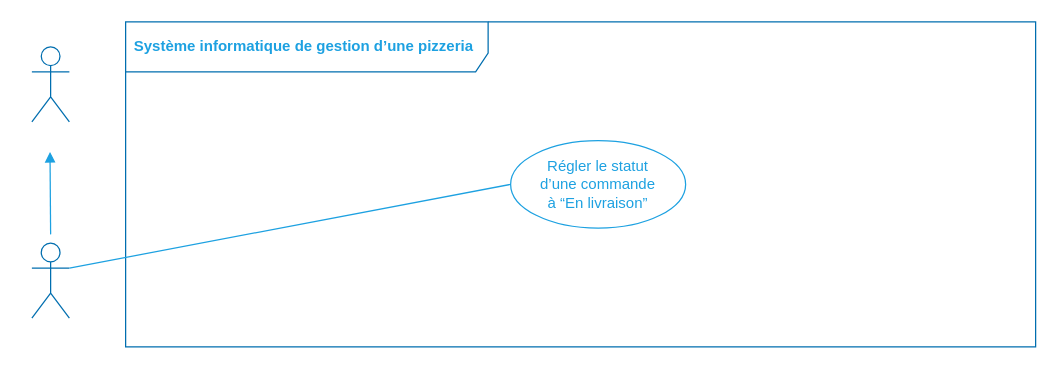
Image size: 1058x369. Some labels were removed from this diagram. The centre of each missing label's shape, as x and y in pixels:
Employé: pixel 50 84
Livreur: pixel 50 280
